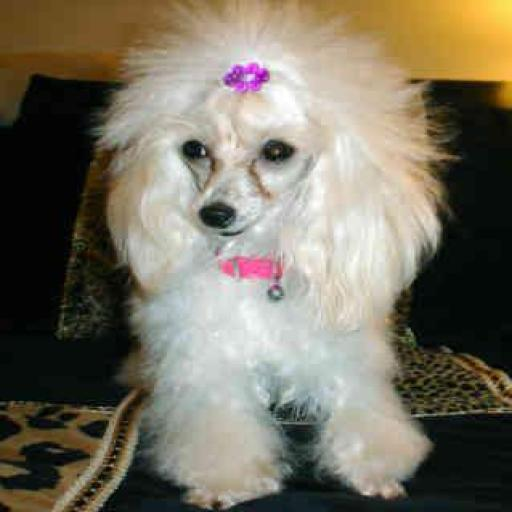dog_face: (116, 19, 400, 284)
